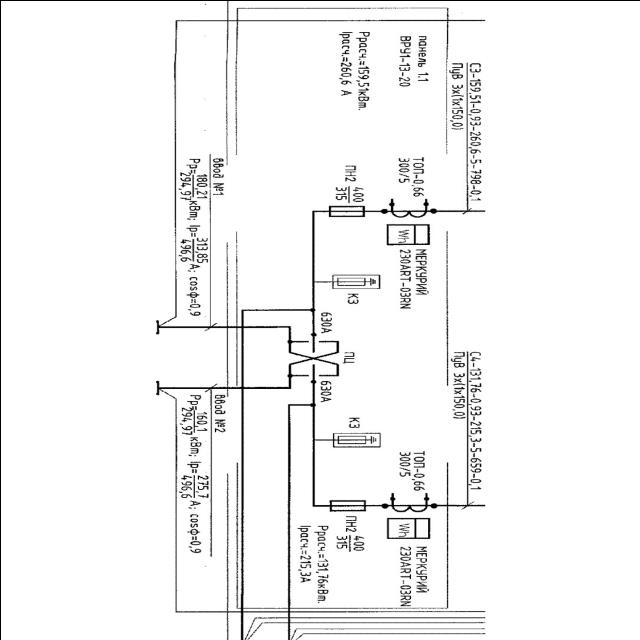-: (392, 246, 430, 310), (396, 543, 428, 607), (392, 154, 428, 198), (395, 447, 427, 493), (330, 162, 364, 204), (332, 512, 365, 552), (395, 34, 413, 88), (318, 310, 332, 334), (318, 378, 332, 402), (341, 350, 355, 366)
FU: (326, 204, 366, 218), (328, 498, 368, 512)
TT: (388, 196, 428, 218), (387, 492, 429, 512)
WH: (383, 516, 430, 539), (384, 223, 431, 245)
switch: (298, 333, 326, 353), (302, 363, 326, 381)
